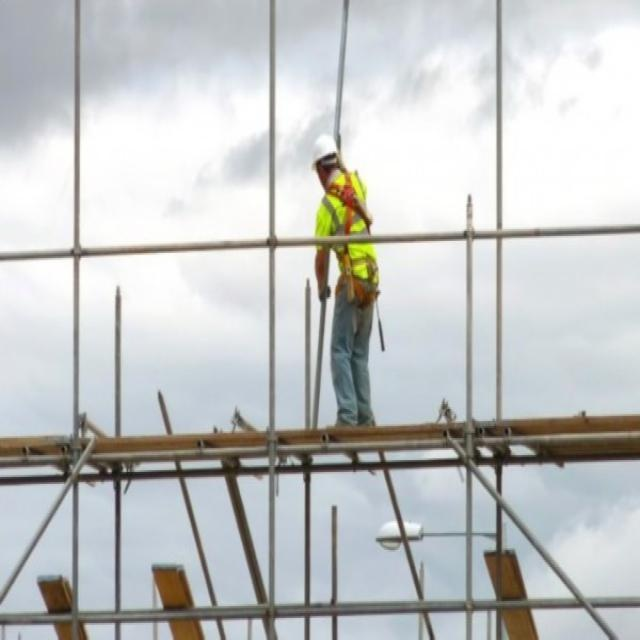Arnes_seguridad: (322, 165, 375, 238)
